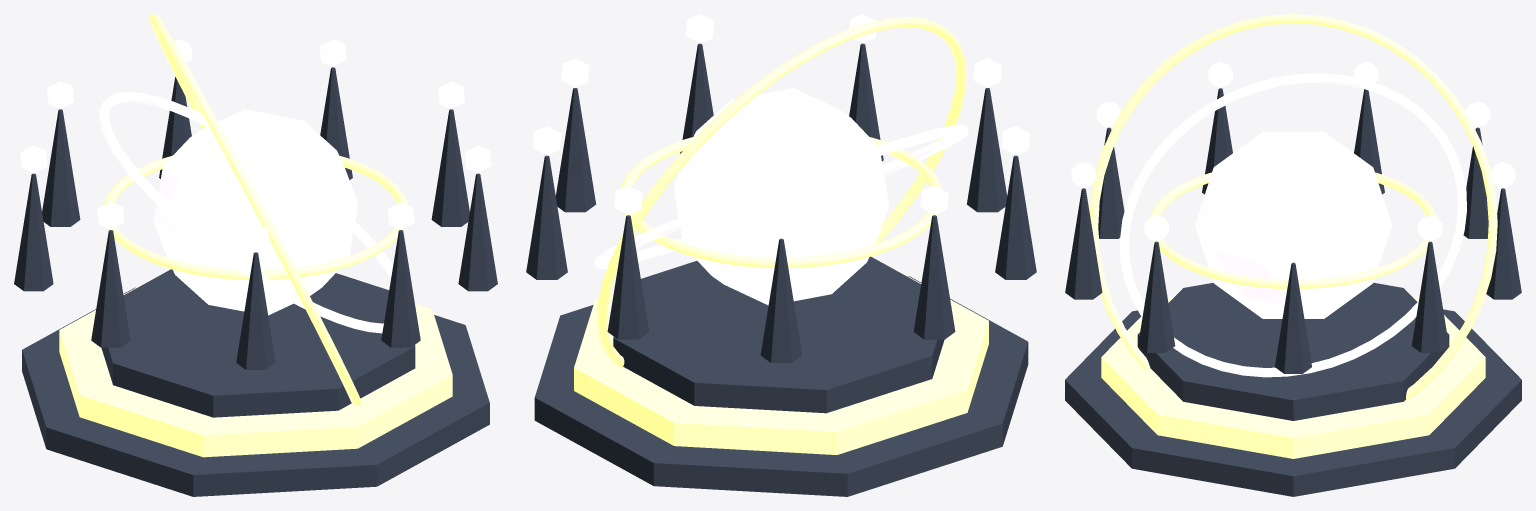
File: gpu-blender-v36.glb
3 renders of one model, left to right at view 1: azimuth 30°, elevation 25°; view 2: azimuth 150°, elevation 25°; view 3: azimuth 270°, elevation 25°, orthographic. The views are drawn at different scales.
Parts seen in each view (by area): view 1: Cylinder.002, SovereignCore_vector-search-engine, Cylinder, Cylinder.001, Torus.001, Torus.002, Torus, Cone.004, Cone.008, Cone.005, Cone.007, Cone.006 (+12 smaller); view 2: Cylinder.002, SovereignCore_vector-search-engine, Cylinder, Cylinder.001, Torus.002, Torus.001, Torus, Cone.002, Cone.004, Cone, Cone.001, Cone.005 (+12 smaller); view 3: SovereignCore_vector-search-engine, Cylinder.002, Cylinder, Cylinder.001, Torus.002, Torus.001, Torus, Cone.007, Cone.001, Cone.008, Cone, Cone.002 (+10 smaller).
Boxes of the visible parts, bbox=[...] form: Cylinder.002: bbox=[101, 269, 415, 417]; SovereignCore_vector-search-engine: bbox=[153, 109, 358, 315]; Cylinder: bbox=[22, 287, 489, 496]; Cylinder.001: bbox=[59, 277, 452, 457]; Torus.001: bbox=[99, 92, 393, 333]; Torus.002: bbox=[149, 14, 361, 405]; Torus: bbox=[103, 155, 408, 279]; Cone.004: bbox=[14, 173, 53, 291]; Cone.008: bbox=[458, 173, 497, 291]; Cone.005: bbox=[91, 230, 130, 347]; Cone.007: bbox=[381, 230, 420, 347]; Cone.006: bbox=[236, 252, 275, 369]; Cylinder.002: bbox=[613, 256, 944, 413]; SovereignCore_vector-search-engine: bbox=[673, 88, 889, 305]; Cylinder: bbox=[534, 276, 1028, 496]; Cylinder.001: bbox=[574, 265, 988, 454]; Torus.002: bbox=[596, 17, 966, 367]; Torus.001: bbox=[594, 124, 968, 269]; Torus: bbox=[621, 137, 942, 268]; Cone.002: bbox=[607, 215, 649, 339]; Cone.004: bbox=[913, 215, 955, 339]; Cone: bbox=[555, 88, 596, 212]; Cone.001: bbox=[526, 155, 567, 279]; Cone.005: bbox=[995, 155, 1036, 279]; SovereignCore_vector-search-engine: bbox=[1195, 131, 1391, 318]; Cylinder.002: bbox=[1137, 282, 1449, 420]; Cylinder: bbox=[1065, 309, 1521, 496]; Cylinder.001: bbox=[1101, 296, 1485, 458]; Torus.002: bbox=[1090, 14, 1497, 400]; Torus.001: bbox=[1120, 73, 1466, 377]; Torus: bbox=[1150, 172, 1436, 288]; Cone.007: bbox=[1065, 188, 1102, 299]; Cone.001: bbox=[1411, 241, 1448, 352]; Cone.008: bbox=[1138, 241, 1175, 352]; Cone: bbox=[1275, 262, 1311, 373]; Cone.002: bbox=[1486, 188, 1521, 299].
Size of the model in its own units: 4.41 by 3.72 by 4.4.
